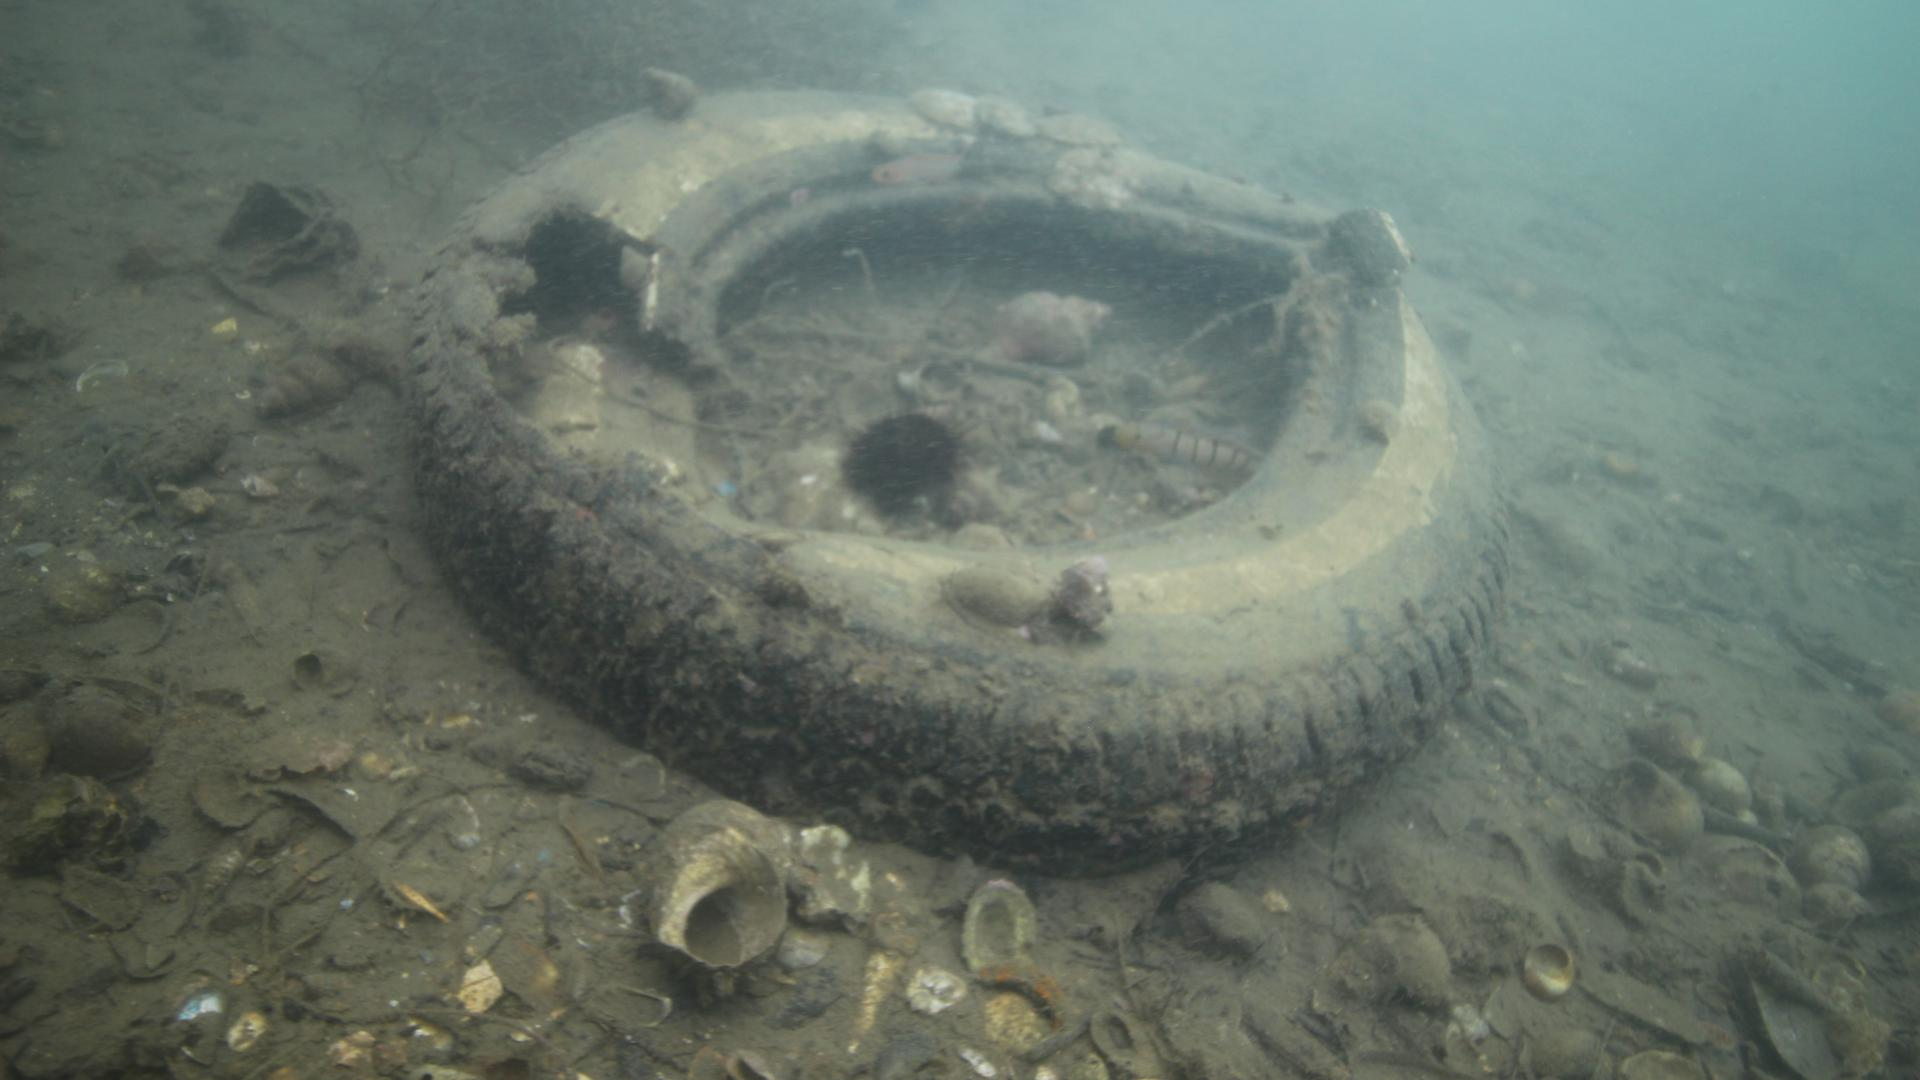tire: (404, 86, 1511, 878)
